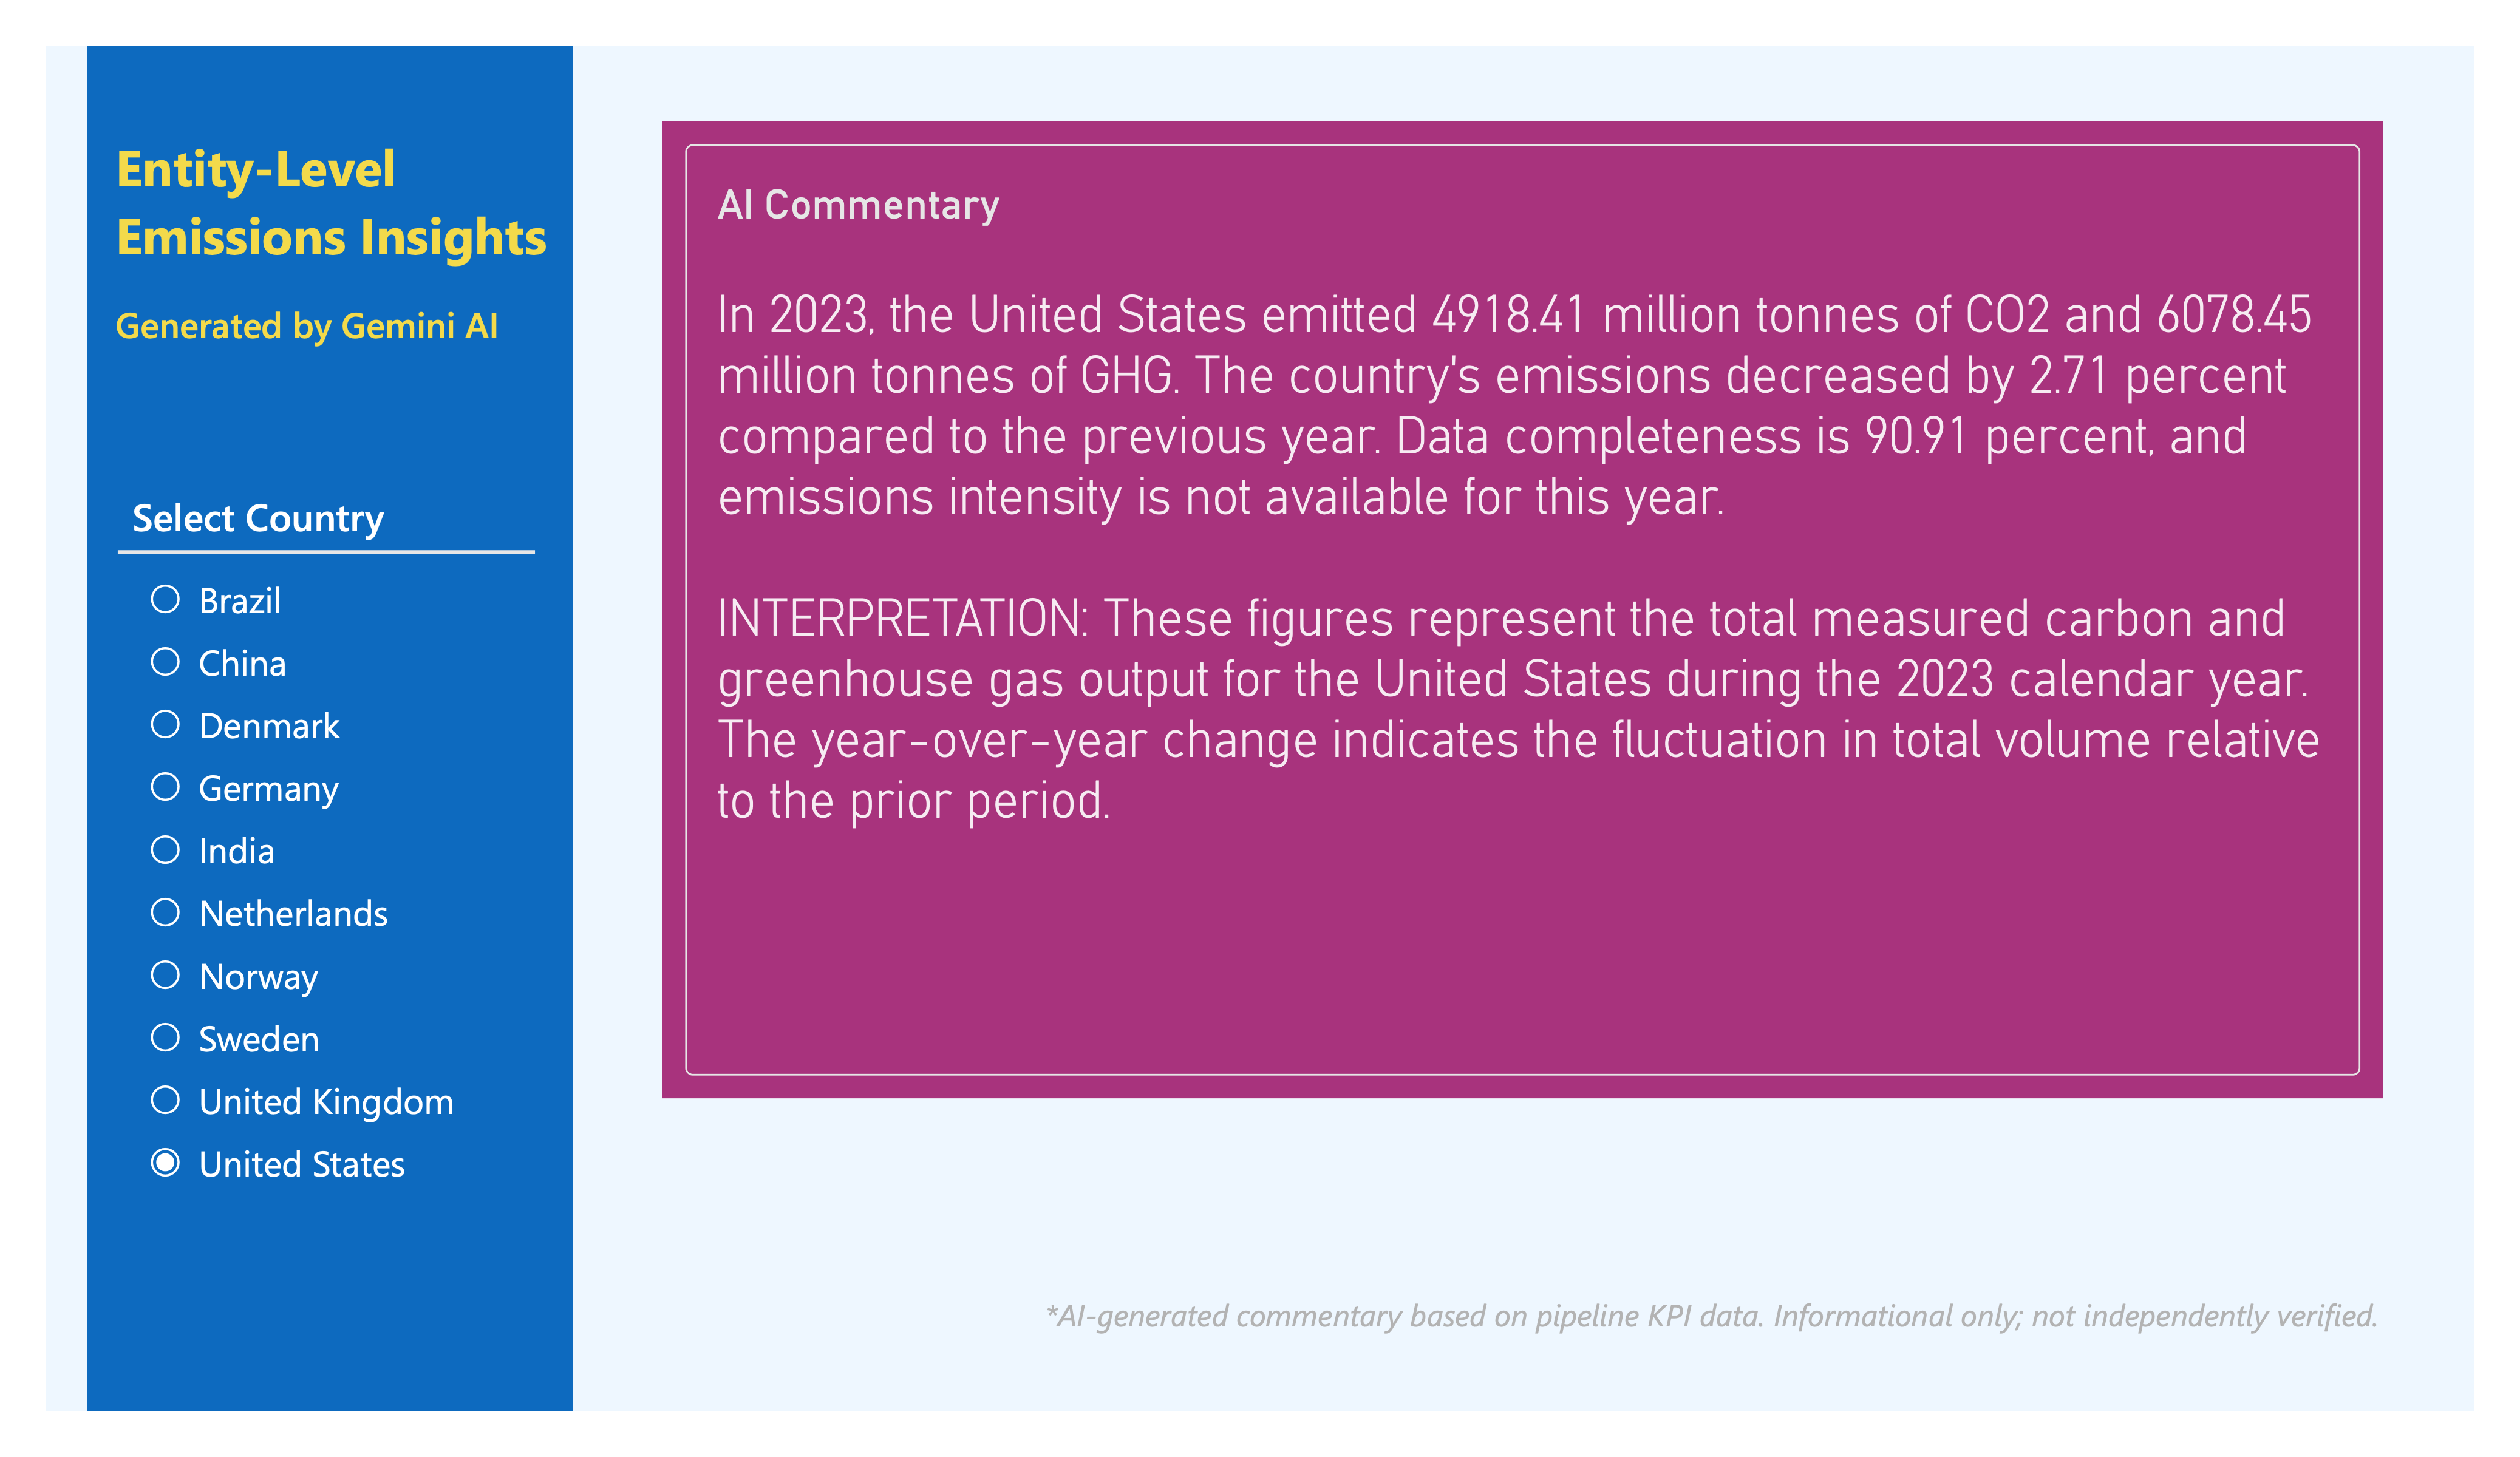

The page's visual inventory and layout, read from the dashboard file:
{"tool":"powerbi","page":{"name":"AI Insights","canvas":[1280,720],"ordinal":4},"visuals":[{"type":"shape","box":[21.7,0,256.7,720],"z":0},{"type":"slicer","title":"Select Country","fields":{"Values":["DIM_ENTITY.entity_name"]},"box":[38.3,228.3,220,450],"z":1000},{"type":"cardVisual","fields":{"Data":["AI_SUMMARY.AI Commentary"]},"box":[325,40,906.7,515],"z":2000},{"type":"textbox","box":[31.7,40,240,136.7],"z":3000},{"type":"textbox","box":[513.3,653.3,743.3,38.3],"z":4000}]}

Visuals, with their boxes on the page's 1280x720 design canvas (x1, y1, x2, y2). These are canvas units, not pixel positions in the 2520x1457 screenshot, which may show the page scaled, cropped or inside an application window:
shape: locate(22, 0, 278, 720)
"Select Country" slicer: locate(38, 228, 258, 678)
cardVisual - AI_SUMMARY.AI Commentary: locate(325, 40, 1232, 555)
textbox: locate(32, 40, 272, 177)
textbox: locate(513, 653, 1257, 692)
